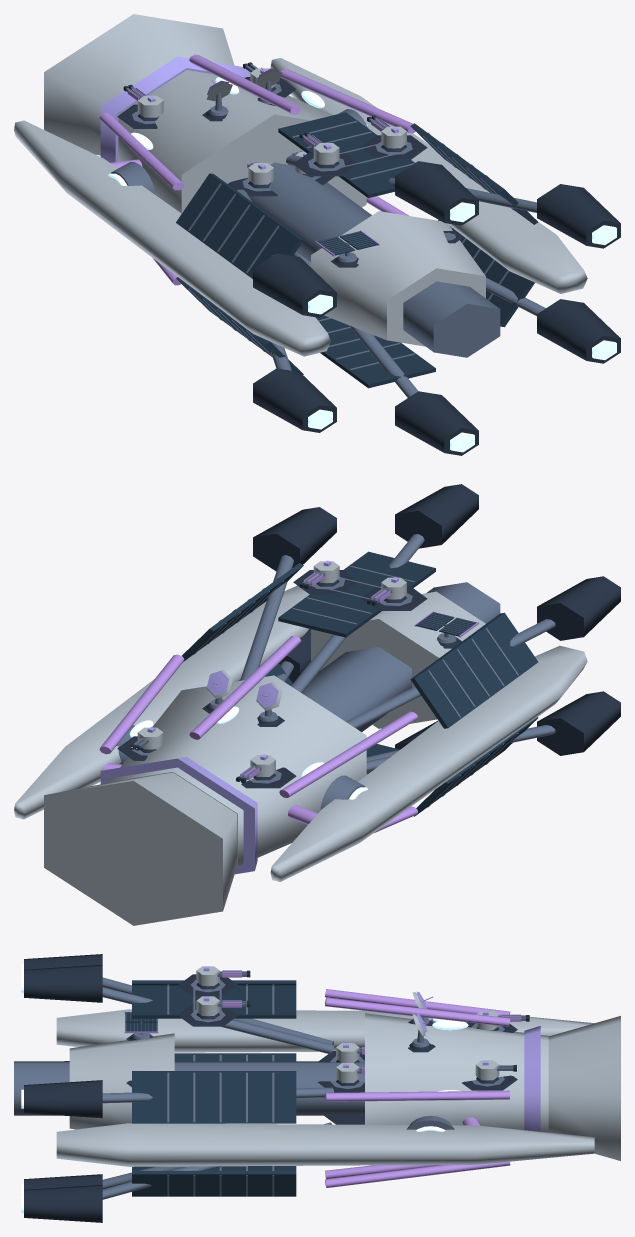
The model's file is example-fitted-corvette.glb.
3 renders of one model, top to bottom at view 1: azimuth 30°, elevation 25°; view 2: azimuth 150°, elevation 25°; view 3: azimuth 270°, elevation 25°, orthographic. The views are drawn at different scales.
Visible parts, largest first — view 1: split_guard_lance_75, cold_habitat_lantern_2, protected_drive_root_79, forward_ice_cap_3, thermal_isolation_spine_1, split_guard_lance_77, heat_rejection_fin_64, heat_rejection_fin_9, heat_rejection_fin_42, isolated_hot_drive_51, isolated_hot_drive_18, isolated_hot_drive_29 (+15 smaller); view 2: forward_ice_cap_3, cold_habitat_lantern_2, split_guard_lance_75, split_guard_lance_77, heat_rejection_fin_64, thermal_isolation_spine_1, protected_drive_root_79, heat_rejection_fin_9, isolated_hot_drive_62, isolated_hot_drive_7, isolated_hot_drive_51, isolated_hot_drive_18 (+13 smaller); view 3: split_guard_lance_77, cold_habitat_lantern_2, split_guard_lance_75, forward_ice_cap_3, heat_rejection_fin_20, protected_drive_root_79, thermal_isolation_spine_1, heat_rejection_fin_31, heat_rejection_fin_9, isolated_hot_drive_18, isolated_hot_drive_7, isolated_hot_drive_29 (+19 smaller).
Boxes of the visible parts, x1=… form: split_guard_lance_75: x1=14, y1=120, x2=330, y2=356; cold_habitat_lantern_2: x1=118, y1=70, x2=366, y2=213; protected_drive_root_79: x1=311, y1=211, x2=485, y2=346; forward_ice_cap_3: x1=44, y1=14, x2=234, y2=155; thermal_isolation_spine_1: x1=249, y1=162, x2=500, y2=357; split_guard_lance_77: x1=270, y1=58, x2=587, y2=293; heat_rejection_fin_64: x1=176, y1=173, x2=303, y2=278; heat_rejection_fin_9: x1=278, y1=112, x2=414, y2=197; heat_rejection_fin_42: x1=316, y1=315, x2=435, y2=388; isolated_hot_drive_51: x1=253, y1=368, x2=336, y2=432; isolated_hot_drive_18: x1=537, y1=184, x2=620, y2=248; isolated_hot_drive_29: x1=537, y1=299, x2=620, y2=363; forward_ice_cap_3: x1=44, y1=772, x2=237, y2=925; cold_habitat_lantern_2: x1=108, y1=675, x2=366, y2=866; split_guard_lance_75: x1=270, y1=645, x2=587, y2=881; split_guard_lance_77: x1=14, y1=585, x2=309, y2=819; heat_rejection_fin_64: x1=410, y1=612, x2=538, y2=728; thermal_isolation_spine_1: x1=302, y1=582, x2=500, y2=731; protected_drive_root_79: x1=311, y1=591, x2=485, y2=728; heat_rejection_fin_9: x1=278, y1=551, x2=435, y2=637; isolated_hot_drive_62: x1=537, y1=576, x2=620, y2=640; isolated_hot_drive_7: x1=395, y1=484, x2=478, y2=548; isolated_hot_drive_51: x1=537, y1=691, x2=620, y2=755; isolated_hot_drive_18: x1=253, y1=507, x2=336, y2=571; split_guard_lance_77: x1=56, y1=1123, x2=594, y2=1166; cold_habitat_lantern_2: x1=365, y1=1013, x2=548, y2=1132; split_guard_lance_75: x1=56, y1=1009, x2=593, y2=1052; forward_ice_cap_3: x1=548, y1=1016, x2=620, y2=1160; heat_rejection_fin_20: x1=132, y1=1071, x2=296, y2=1123; protected_drive_root_79: x1=69, y1=1033, x2=174, y2=1129; thermal_isolation_spine_1: x1=14, y1=1061, x2=364, y2=1115; heat_rejection_fin_31: x1=132, y1=1171, x2=296, y2=1196; heat_rejection_fin_9: x1=132, y1=985, x2=296, y2=1018; isolated_hot_drive_18: x1=24, y1=1080, x2=102, y2=1118; isolated_hot_drive_7: x1=24, y1=964, x2=102, y2=1002; isolated_hot_drive_29: x1=24, y1=1185, x2=102, y2=1222.
Bounding box in the file's own units: 142 × 110 × 248.
